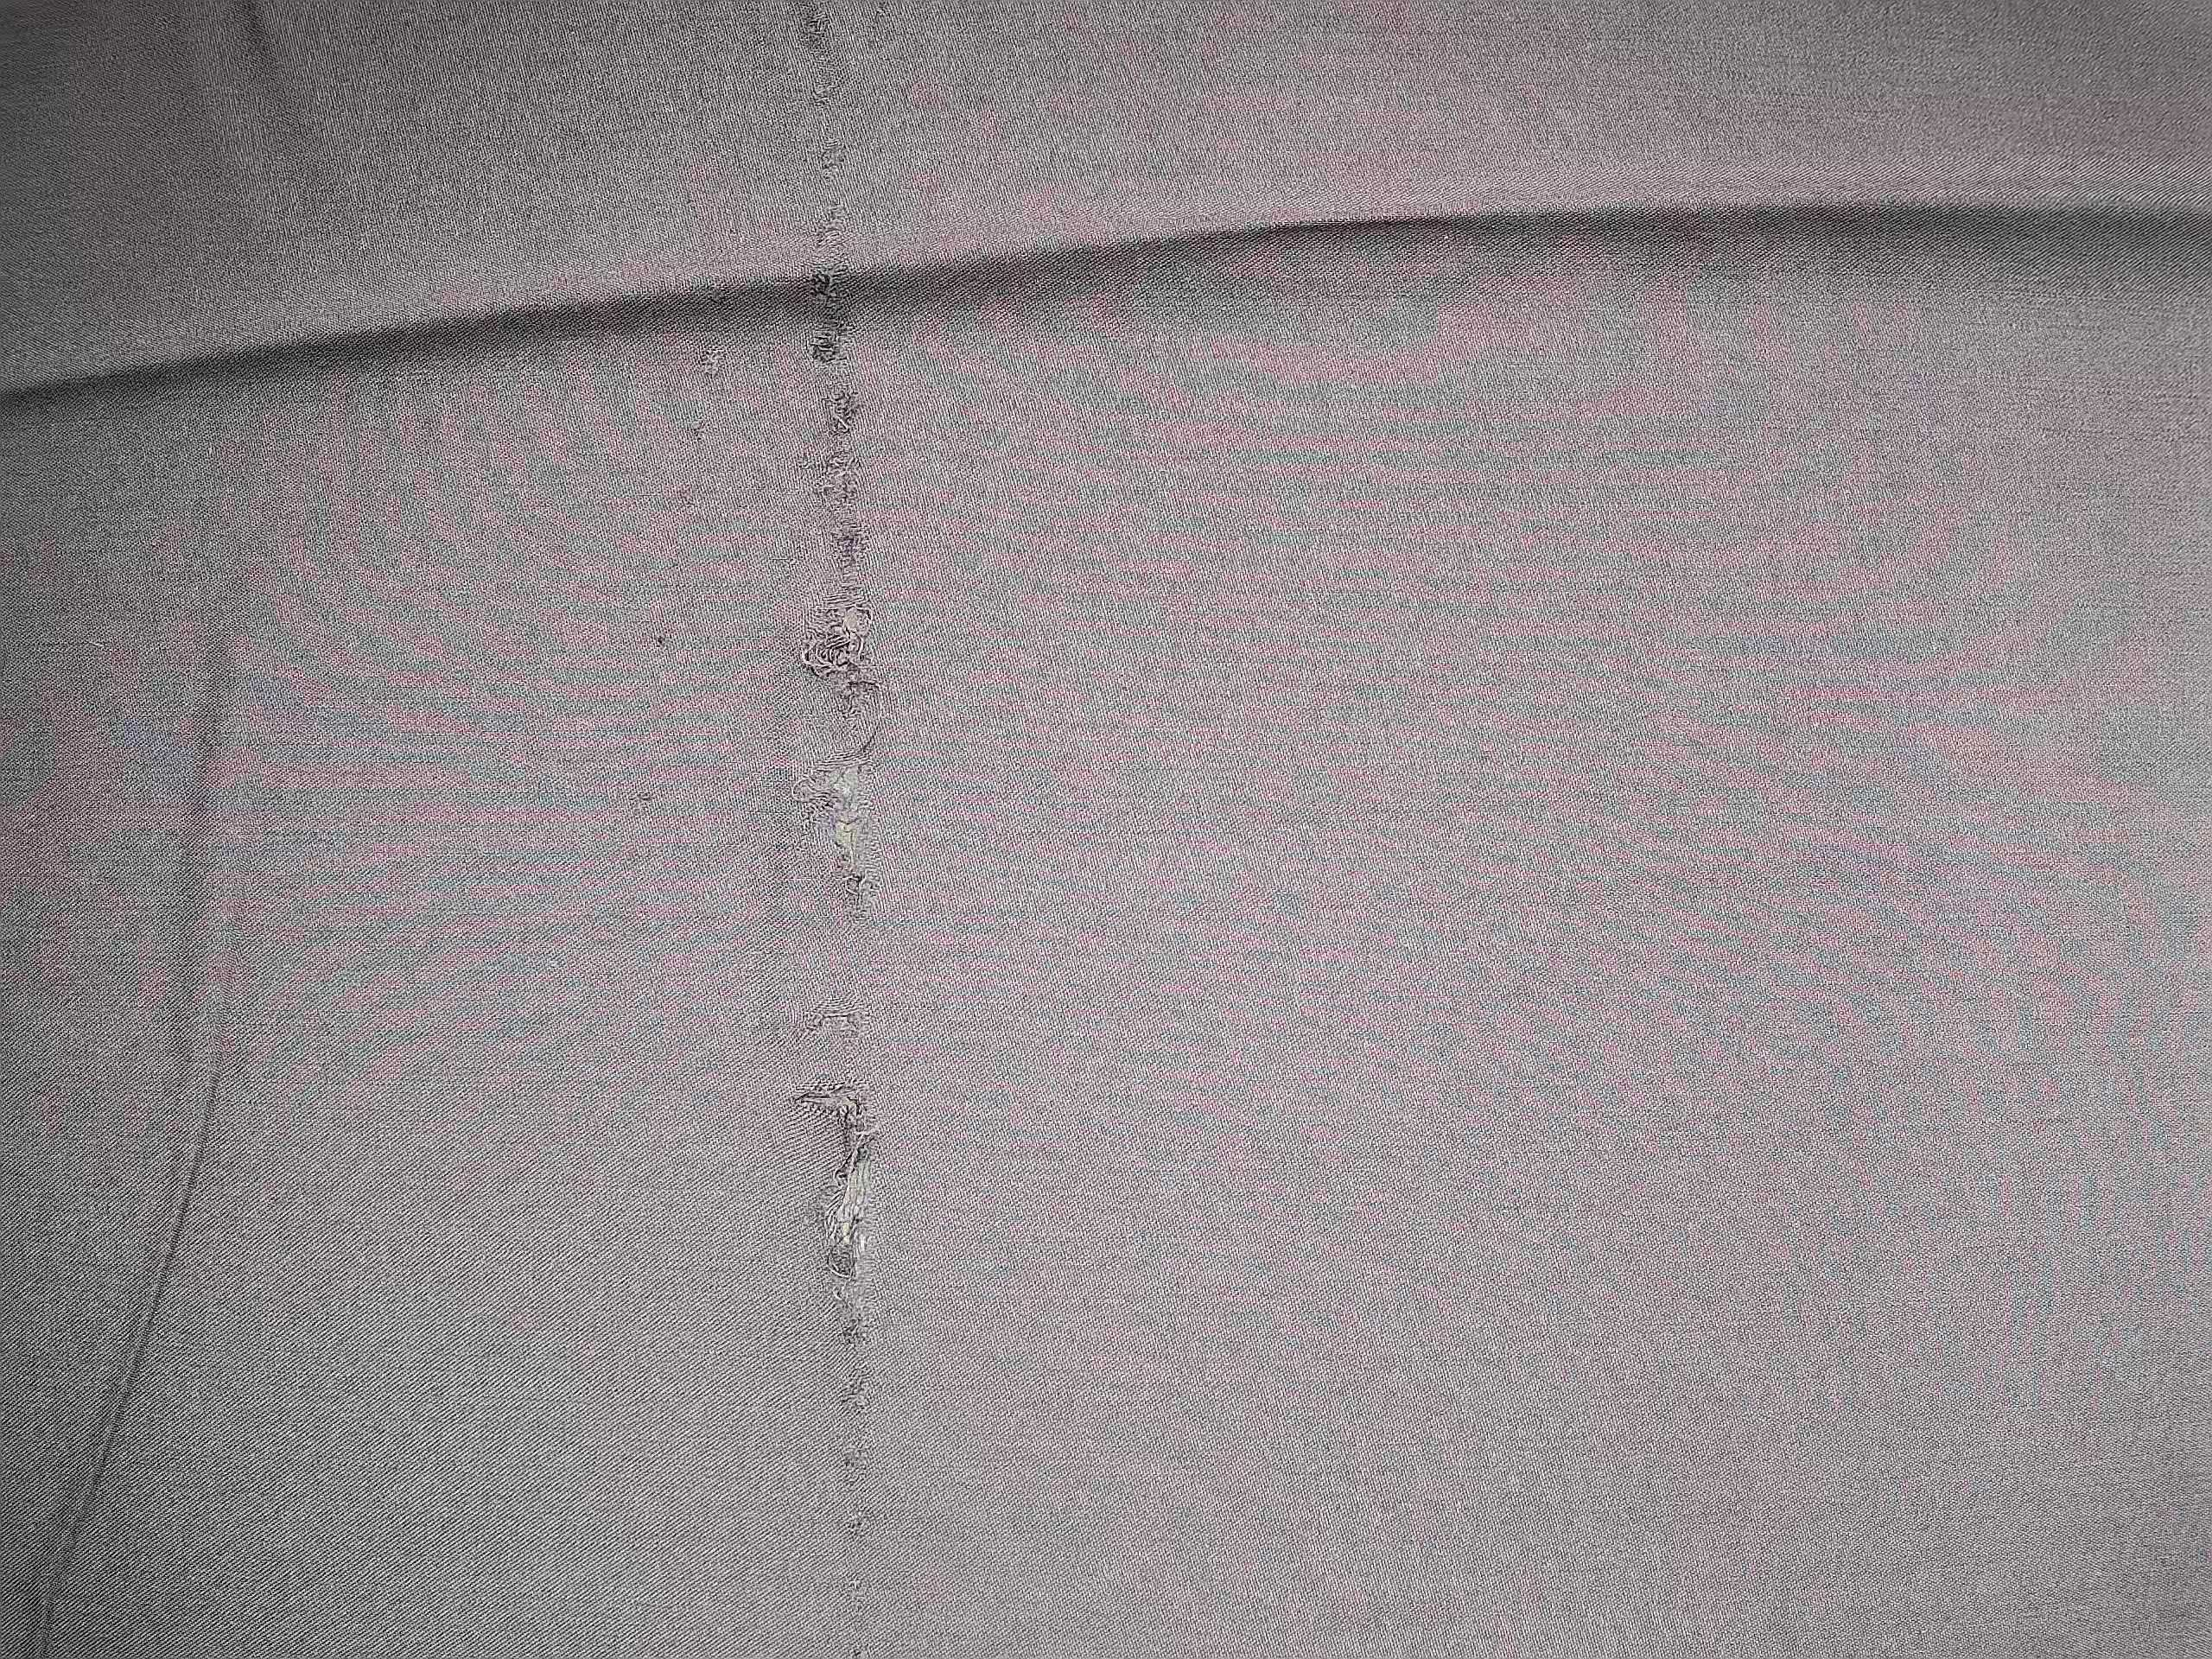puncture-hole: (759, 17, 939, 1553)
